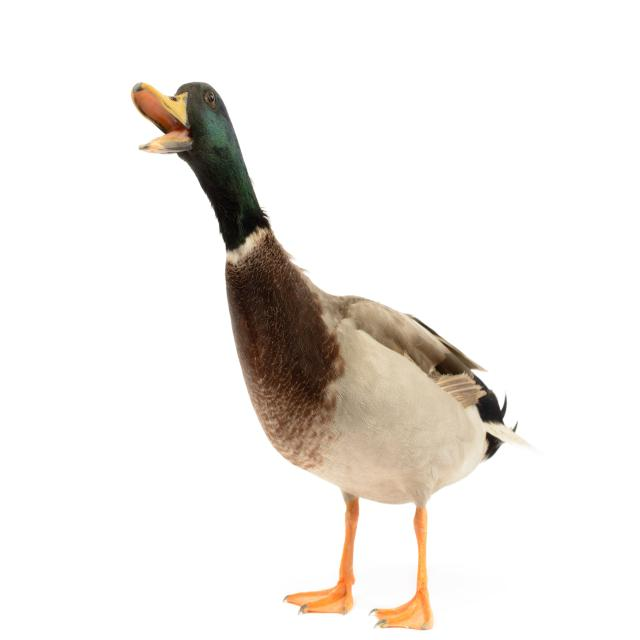Duck: (133, 64, 528, 628)
